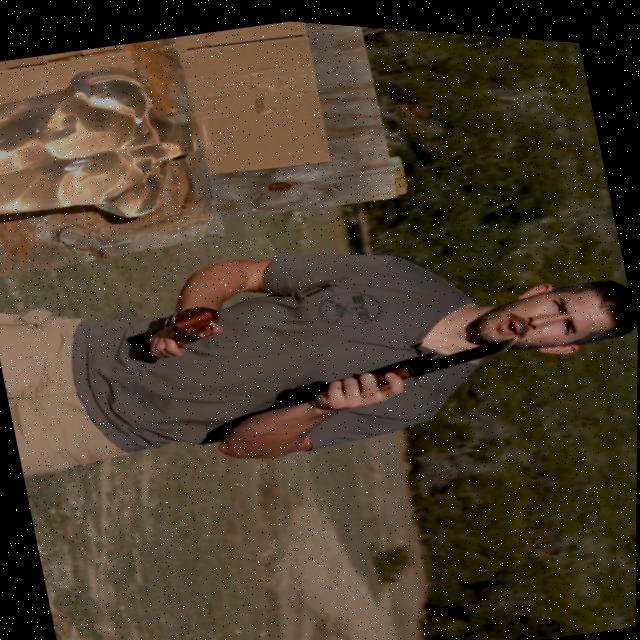knife: (379, 313, 526, 387), (167, 298, 216, 348)
